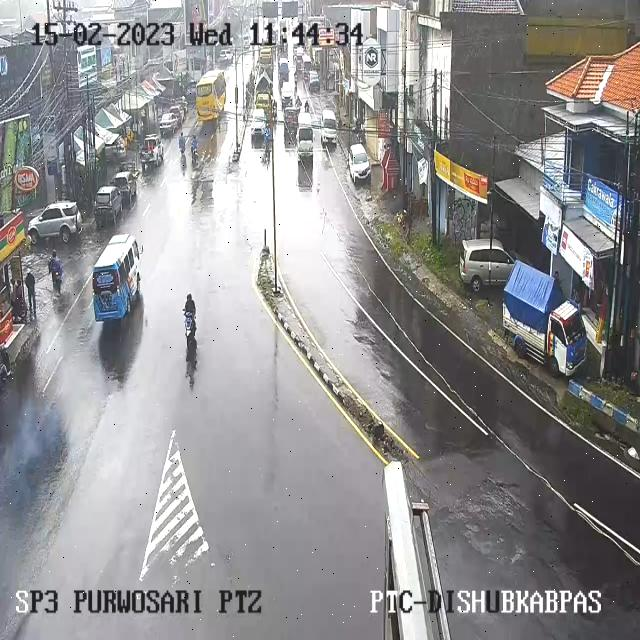Bus: (94, 235, 144, 323), (197, 75, 229, 122), (296, 118, 314, 158)
Car: (459, 238, 515, 292), (28, 200, 82, 243), (92, 185, 123, 228), (110, 170, 138, 206), (348, 144, 370, 183), (139, 135, 164, 169), (321, 109, 338, 144), (104, 136, 126, 163), (250, 110, 267, 142), (159, 113, 179, 135), (284, 105, 300, 131), (169, 105, 185, 125), (280, 85, 293, 107), (218, 48, 234, 65), (308, 71, 320, 92), (184, 85, 197, 104), (278, 60, 290, 80), (301, 55, 312, 75), (178, 97, 189, 117), (241, 34, 251, 48), (296, 46, 304, 61), (295, 57, 303, 71)
Motorbike: (180, 297, 201, 357), (47, 252, 63, 294), (178, 134, 186, 154), (190, 136, 198, 156), (295, 95, 302, 108), (304, 101, 309, 113)
Truck: (510, 259, 584, 377), (255, 71, 272, 114), (258, 46, 274, 67)
